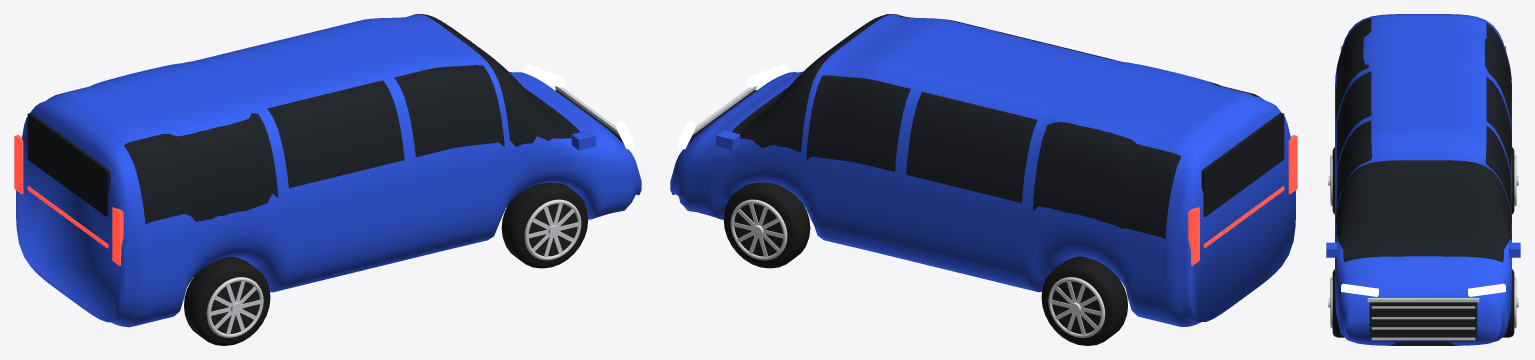
File: car.glb
3 renders of one model, left to right at view 1: azimuth 30°, elevation 25°; view 2: azimuth 150°, elevation 25°; view 3: azimuth 270°, elevation 25°, orthographic. The views are drawn at different scales.
Visible parts, largest first — view 1: body, Cube.052, Cylinder.009, Cylinder.003, Cylinder.010, Cylinder.004, Torus.001, Torus.003, Cube.050, Cube.047, Cube.046; view 2: body, Cube.052, Cylinder.006, Cylinder, Cylinder.007, Cylinder.001, Torus, Torus.002, Cube.047, Cube.050, Cube.049; view 3: body, Cube.040, Cube.045, Cube.041, Cube.046, Cube.049, Cylinder.003, Cylinder, Cube.042, Cube.044, Cube.043, Cylinder.006 (+3 smaller).
Part boxes in pixels (x1,y1,x2,y2): body: (16, 14, 641, 327); Cube.052: (27, 113, 110, 216); Cylinder.009: (184, 257, 270, 345); Cylinder.003: (501, 182, 588, 268); Cylinder.010: (211, 281, 259, 333); Cylinder.004: (529, 204, 577, 256); Torus.001: (524, 199, 581, 260); Torus.003: (206, 277, 263, 337); Cube.050: (112, 207, 123, 265); Cube.047: (14, 135, 23, 194); Cube.046: (524, 64, 564, 87); body: (670, 14, 1295, 327); Cube.052: (1201, 113, 1284, 216); Cylinder.006: (1041, 257, 1127, 345); Cylinder: (723, 182, 810, 268); Cylinder.007: (1052, 281, 1100, 333); Cylinder.001: (734, 204, 782, 256); Torus: (730, 199, 787, 260); Torus.002: (1048, 277, 1105, 337); Cube.047: (1188, 207, 1199, 265); Cube.050: (1288, 135, 1297, 194); Cube.049: (747, 64, 787, 87); body: (1335, 14, 1511, 345); Cube.040: (1369, 302, 1477, 337); Cube.045: (1367, 298, 1479, 302); Cube.041: (1371, 337, 1475, 340); Cube.046: (1468, 283, 1505, 296); Cube.049: (1341, 283, 1378, 296); Cylinder.003: (1332, 269, 1344, 337); Cylinder: (1502, 269, 1514, 337); Cube.042: (1371, 327, 1475, 329); Cube.044: (1371, 306, 1475, 308); Cube.043: (1371, 317, 1475, 319); Cylinder.006: (1512, 147, 1514, 214).
Size of the model in its own units: 4.98 by 1.9 by 2.02.
